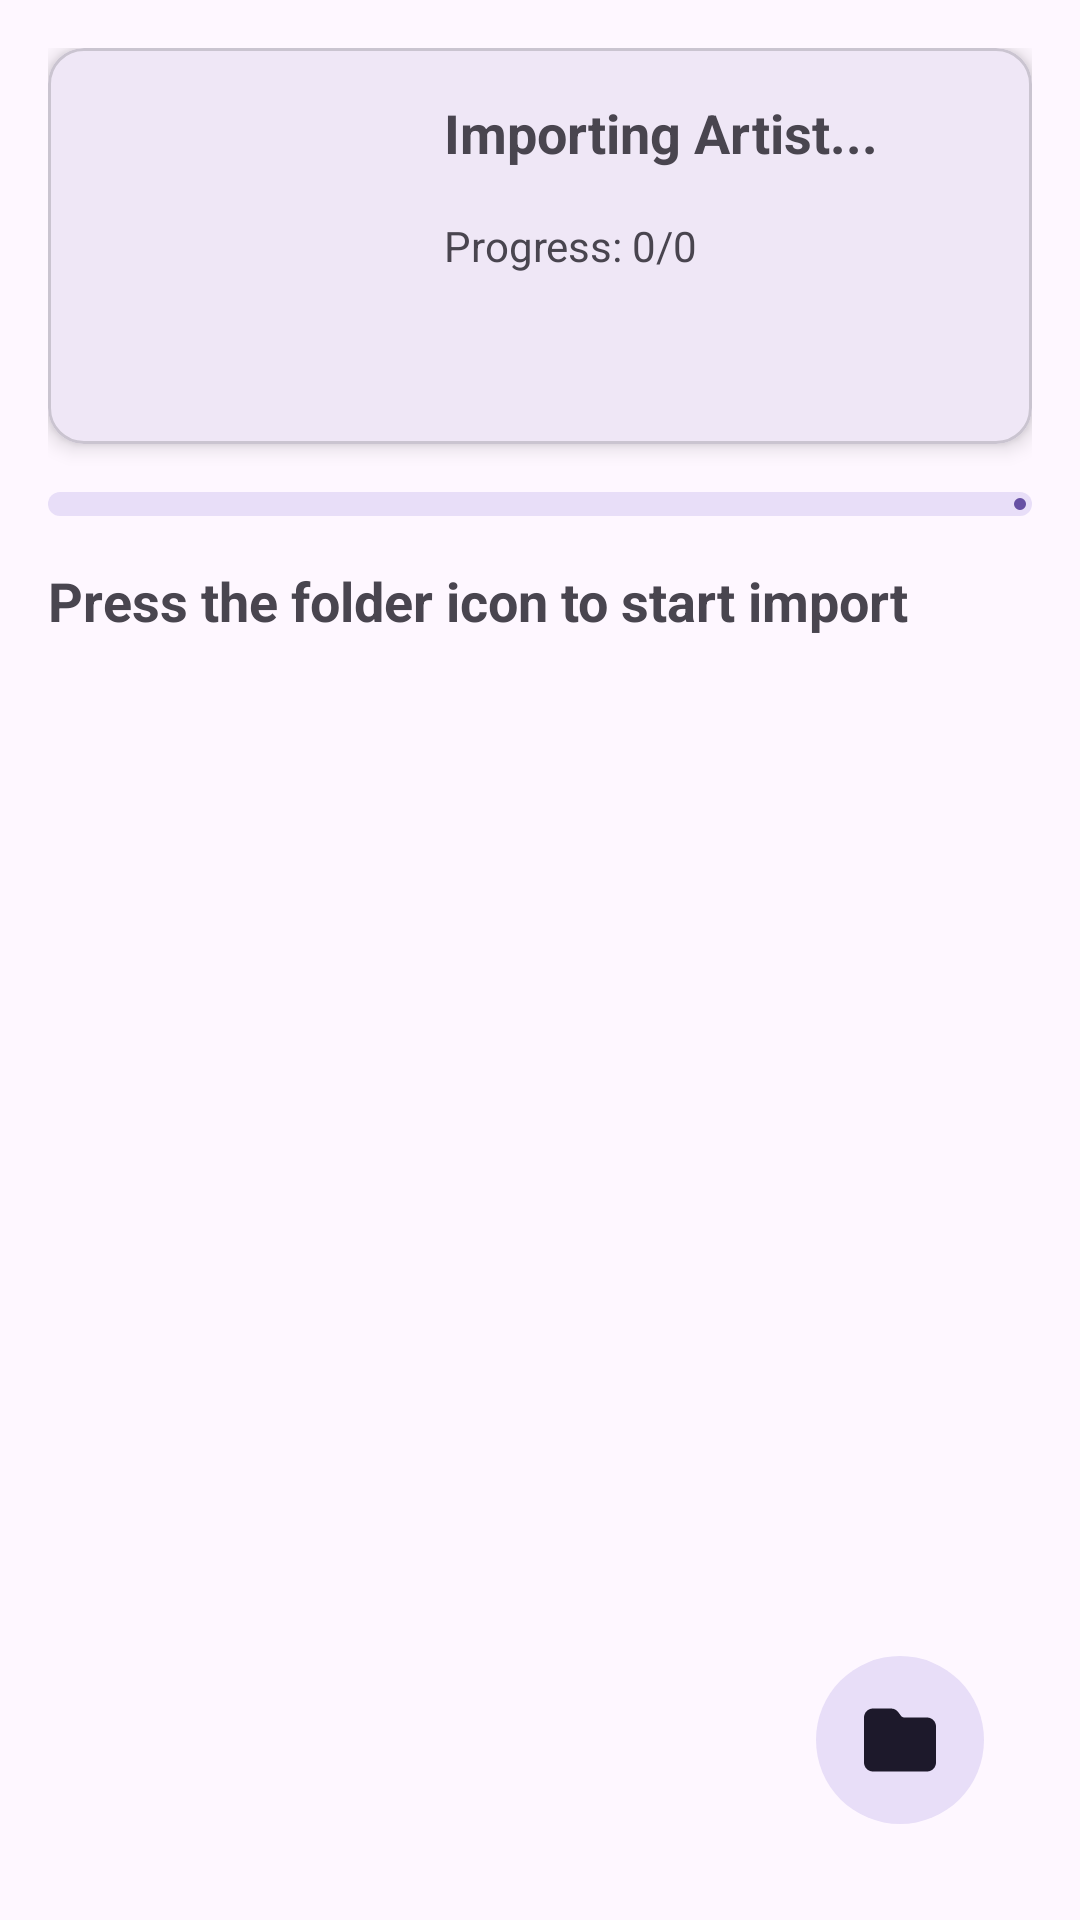

Screen size 1080*1920. Icon name, then its center in pixels as (x=x, y=y):
Select Folder: (x=900, y=1740)
